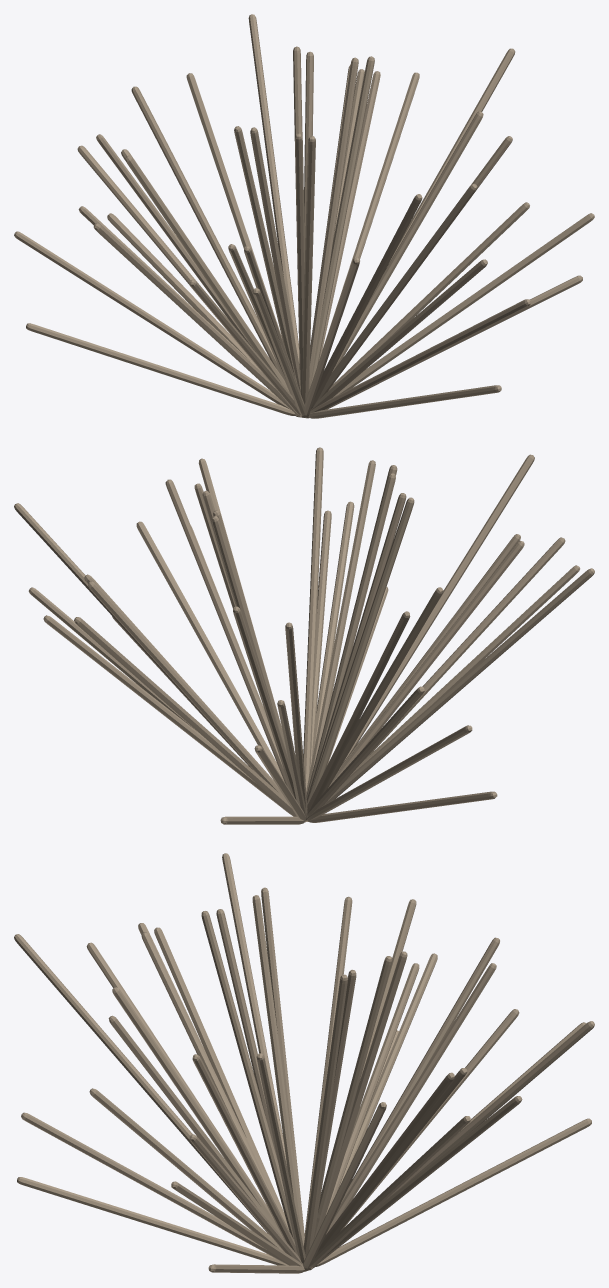
Rendered from newgrass.fbx.
3 views of the same model, one above another, from view 1: azimuth 30°, elevation 25°; view 2: azimuth 150°, elevation 25°; view 3: azimuth 270°, elevation 25° (orthographic). The views are drawn at different scales.
Visible parts, largest first — view 1: Plane.005; view 2: Plane.005; view 3: Plane.005.
Boxes of the visible parts, box(x1,y1,x2,y2) form: Plane.005: box(14, 14, 594, 418); Plane.005: box(14, 447, 594, 824); Plane.005: box(14, 853, 594, 1273).
Bounding box in the file's own units: 259 × 161 × 252.
